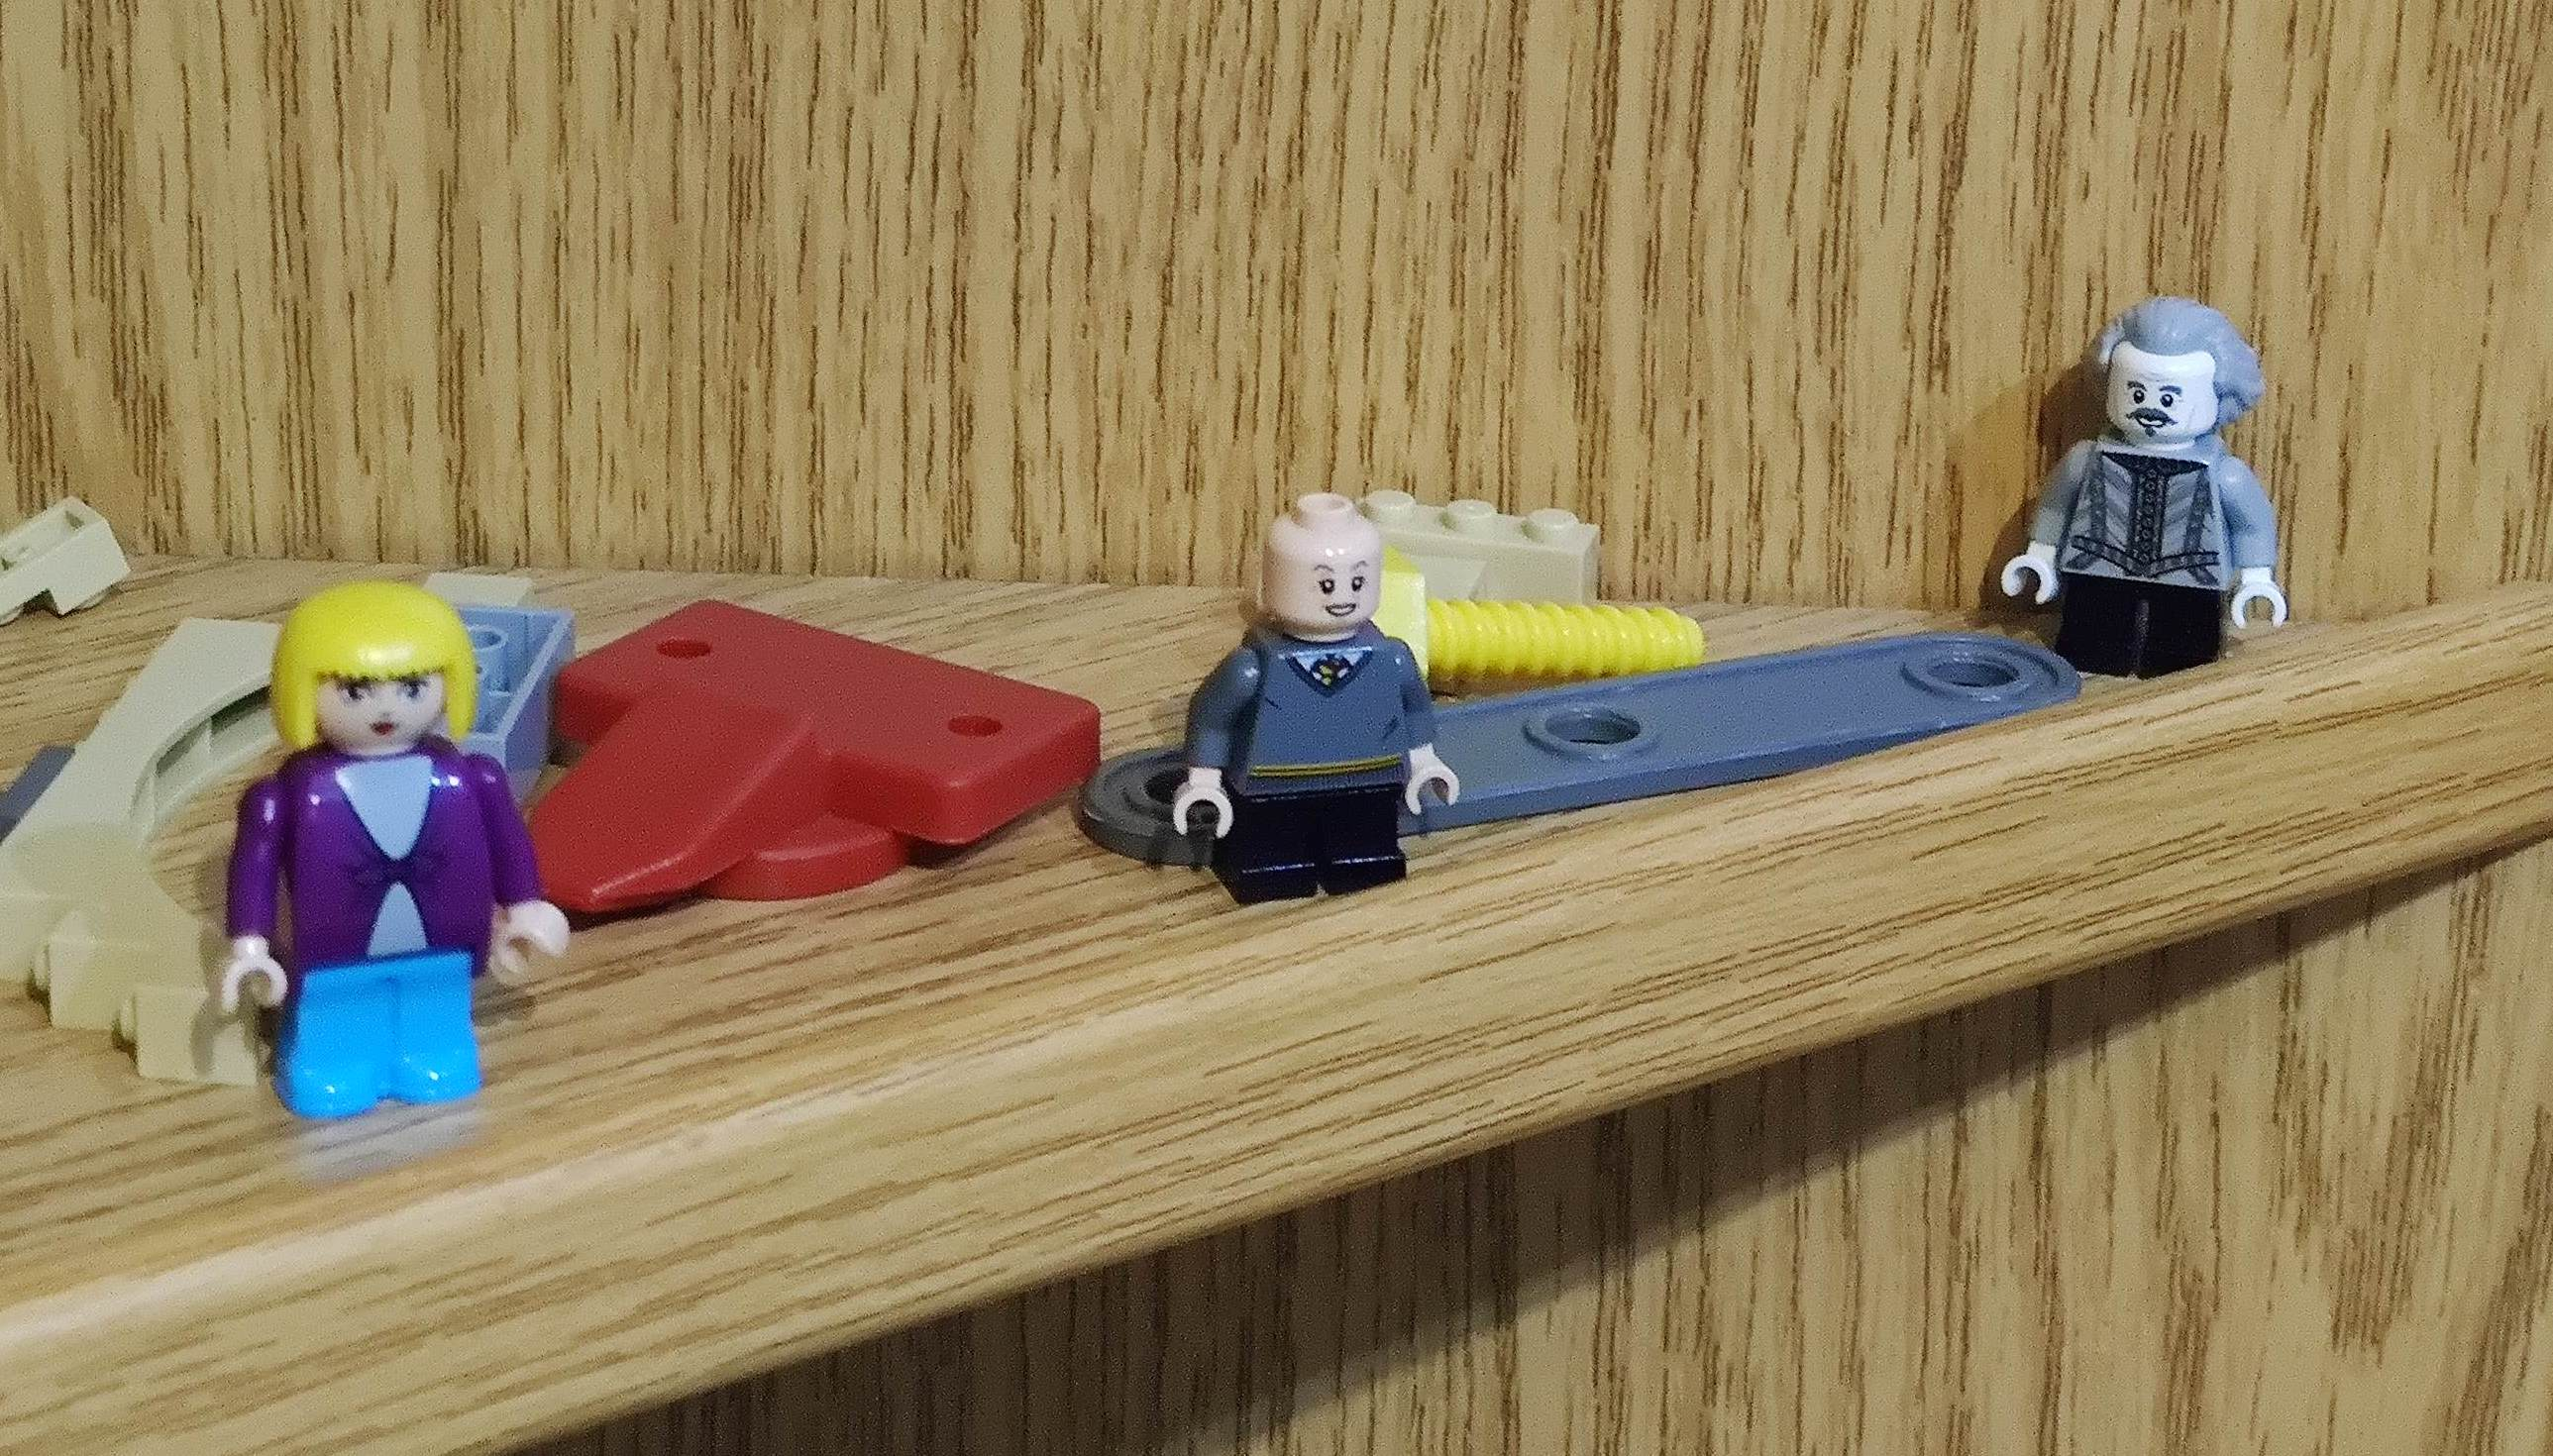lego: (212, 571, 577, 1134), (1164, 489, 1466, 913), (1990, 293, 2292, 696)
